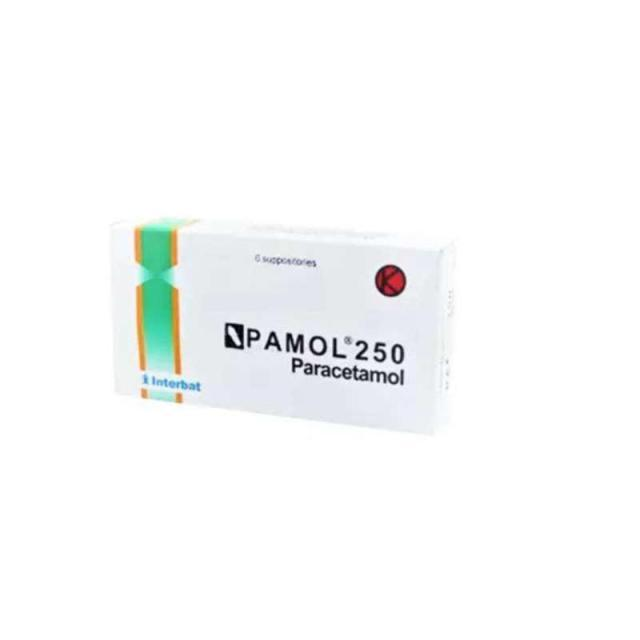drug-name: (246, 326, 407, 365)
